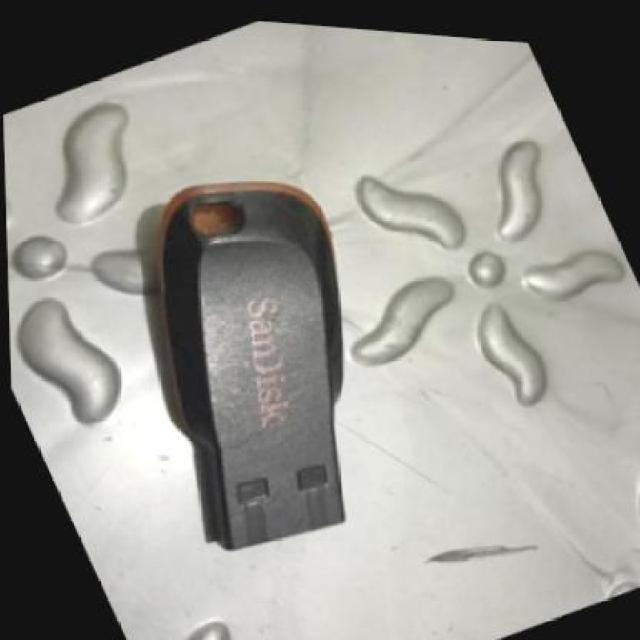Flashdisk: (49, 120, 465, 595)
